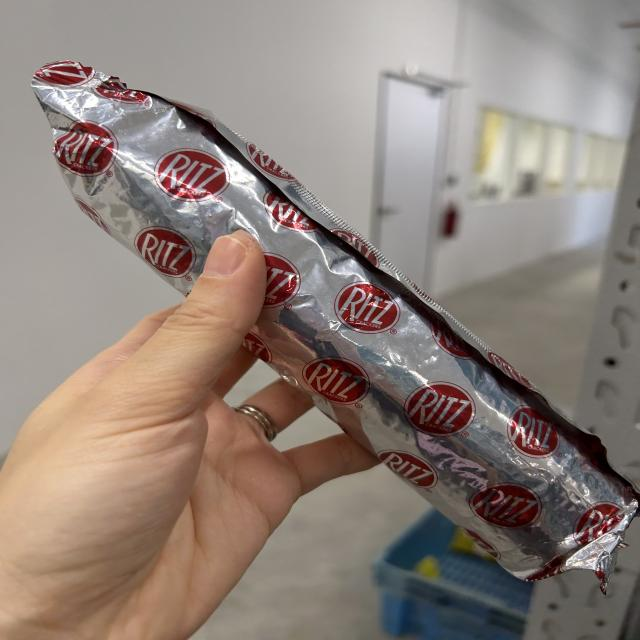object_name: (57, 73, 582, 564)
